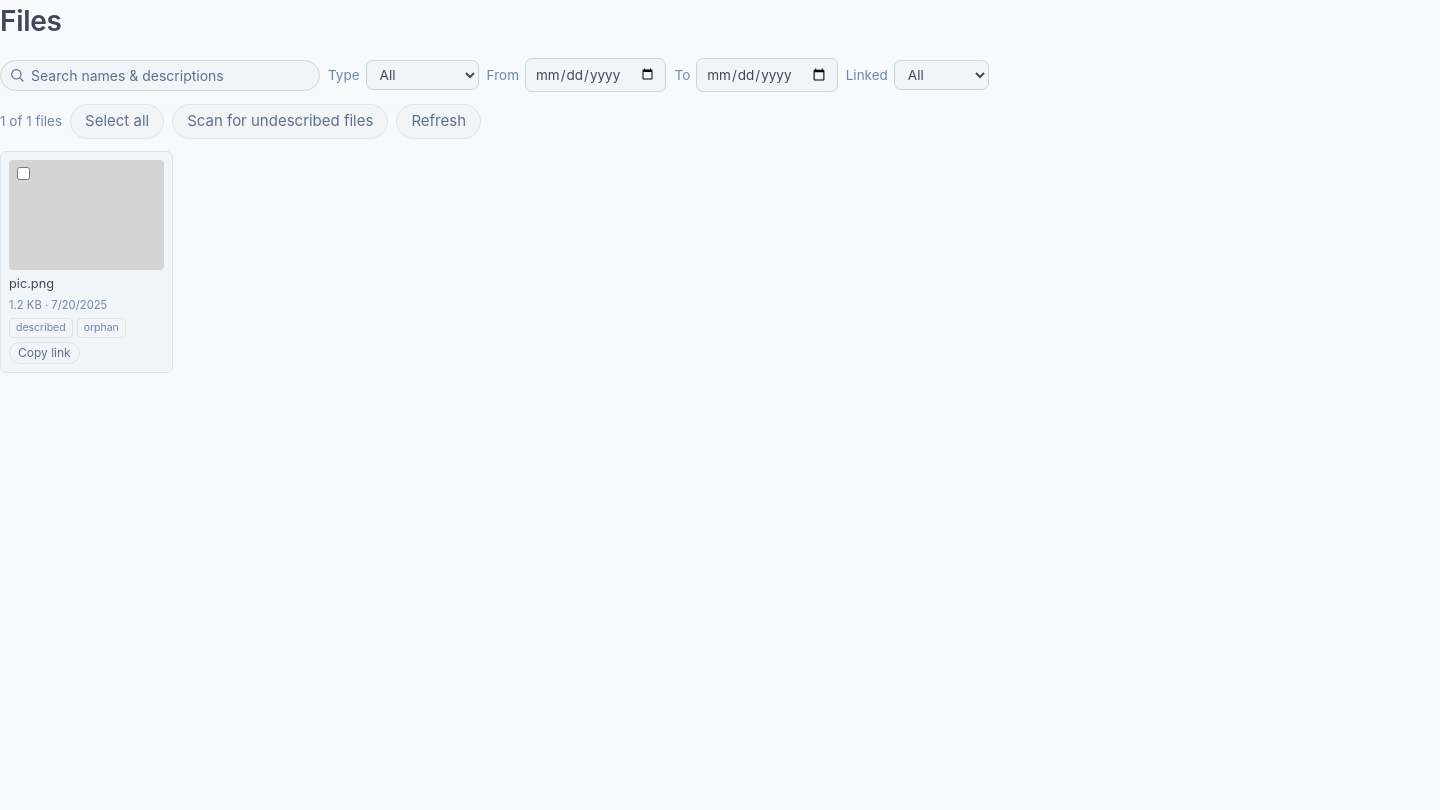
Test: Files › shows the description from the described badge
Click the button "described". click: (41, 328)
box: [9, 318, 73, 338]
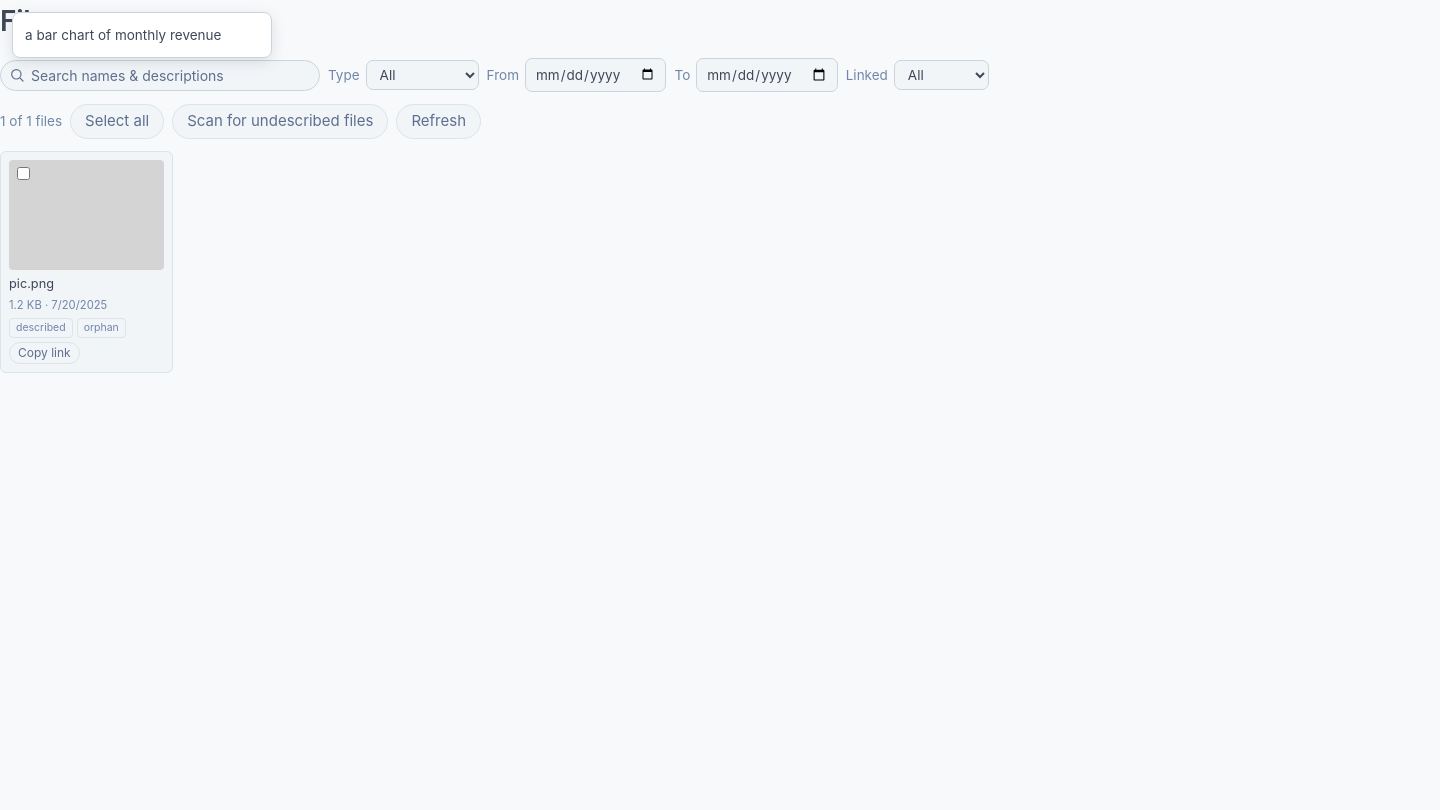
Result: the dialog named "Description" reads "a bar chart of monthly revenue" at [25, 27, 221, 43]
